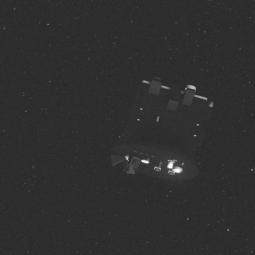proba_3_ocs: (96, 59, 220, 190)
